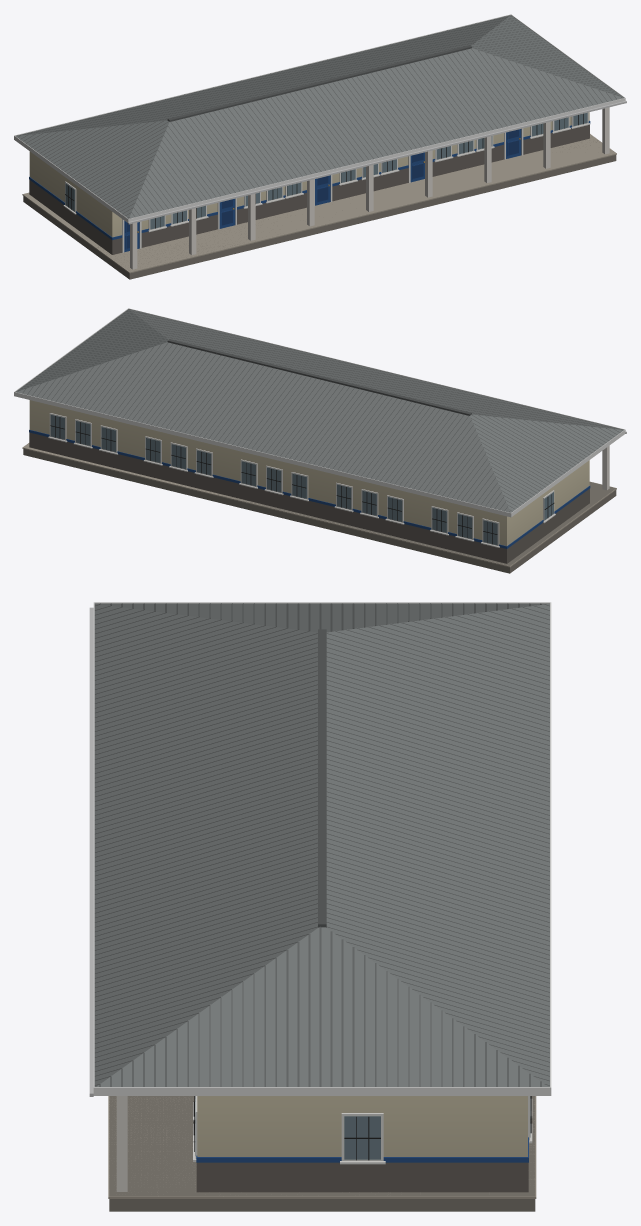
File: ns_school1.glb
3 views of the same model, one above another, from view 1: azimuth 30°, elevation 25°; view 2: azimuth 150°, elevation 25°; view 3: azimuth 270°, elevation 25° (orthographic). The views are drawn at different scales.
Parts seen in each view (by area): view 1: ns_school1; view 2: ns_school1; view 3: ns_school1.
Boxes of the visible parts, box(x1,y1,x2,y2) form: ns_school1: box(14, 14, 626, 279); ns_school1: box(14, 308, 626, 573); ns_school1: box(89, 602, 551, 1211).
Size of the model in its own units: 31.32 by 5.92 by 12.56.
